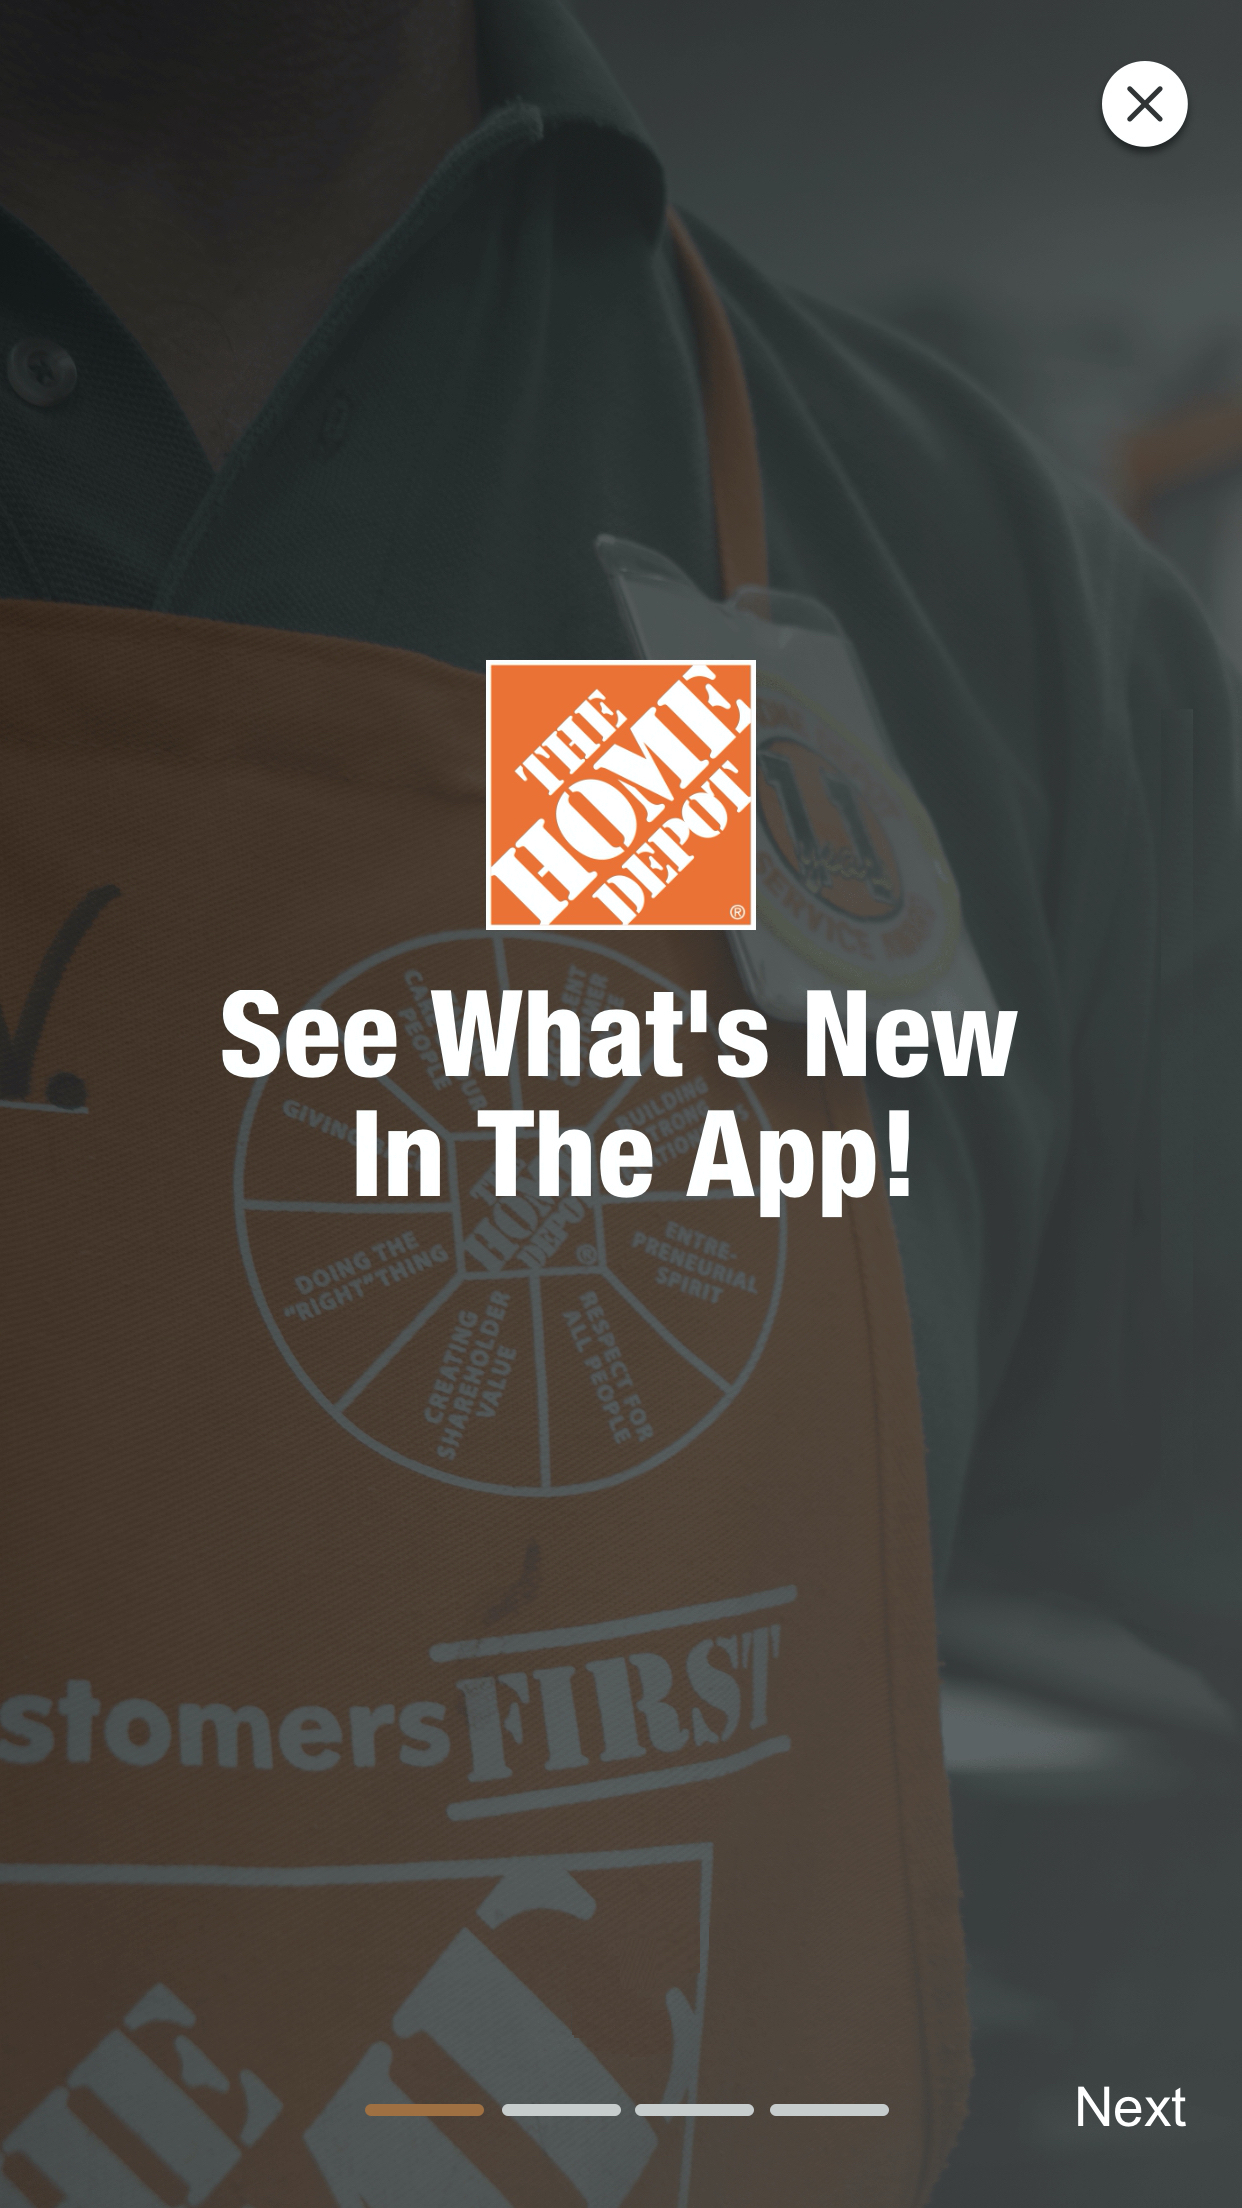BackgroundImage: (2, 2, 1240, 2208)
Icon: (1101, 61, 1187, 149)
Image: (487, 661, 757, 931)
PageIndicator: (365, 2103, 889, 2115)
Text: (221, 990, 1018, 1218), (1077, 2085, 1186, 2128)
